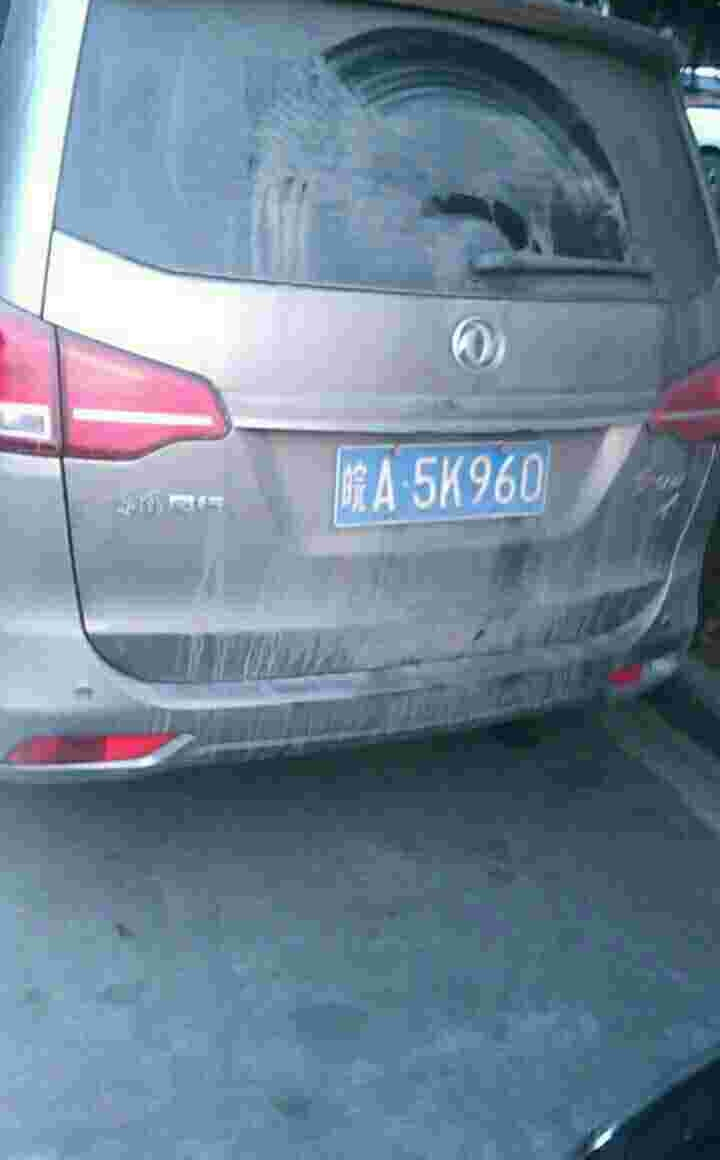license_plate: (338, 443, 547, 528)
